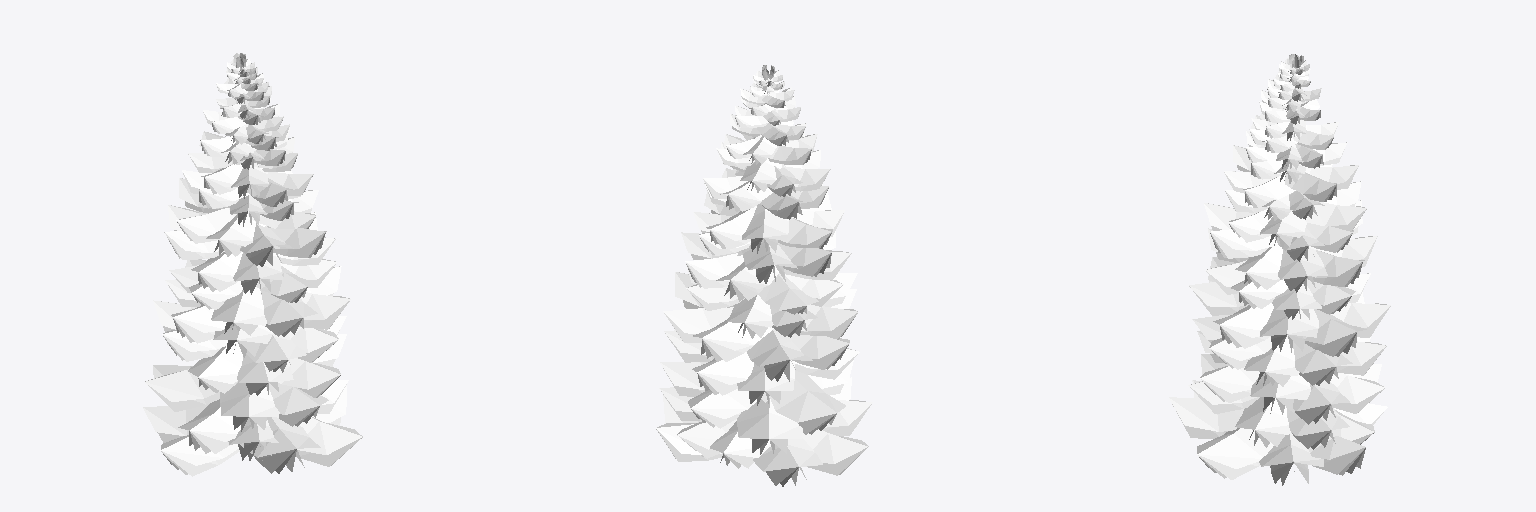
Rendered from spruce12m.obj.
3 renders of one model, left to right at view 1: azimuth 30°, elevation 25°; view 2: azimuth 150°, elevation 25°; view 3: azimuth 270°, elevation 25°, orthographic.
Visible parts, largest first — view 1: Spruce_12m_Plane.1860; view 2: Spruce_12m_Plane.1860; view 3: Spruce_12m_Plane.1860.
Boxes of the visible parts, box(x1,y1,x2,y2) form: Spruce_12m_Plane.1860: box(143, 53, 362, 476); Spruce_12m_Plane.1860: box(656, 65, 872, 486); Spruce_12m_Plane.1860: box(1169, 54, 1390, 485).
Size of the model in its own units: 6.38 by 12.34 by 6.27.